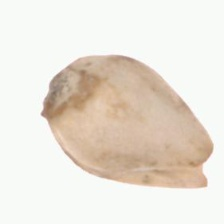L1: (40, 69, 69, 116), (194, 139, 216, 188)
L2: (42, 53, 214, 189)
